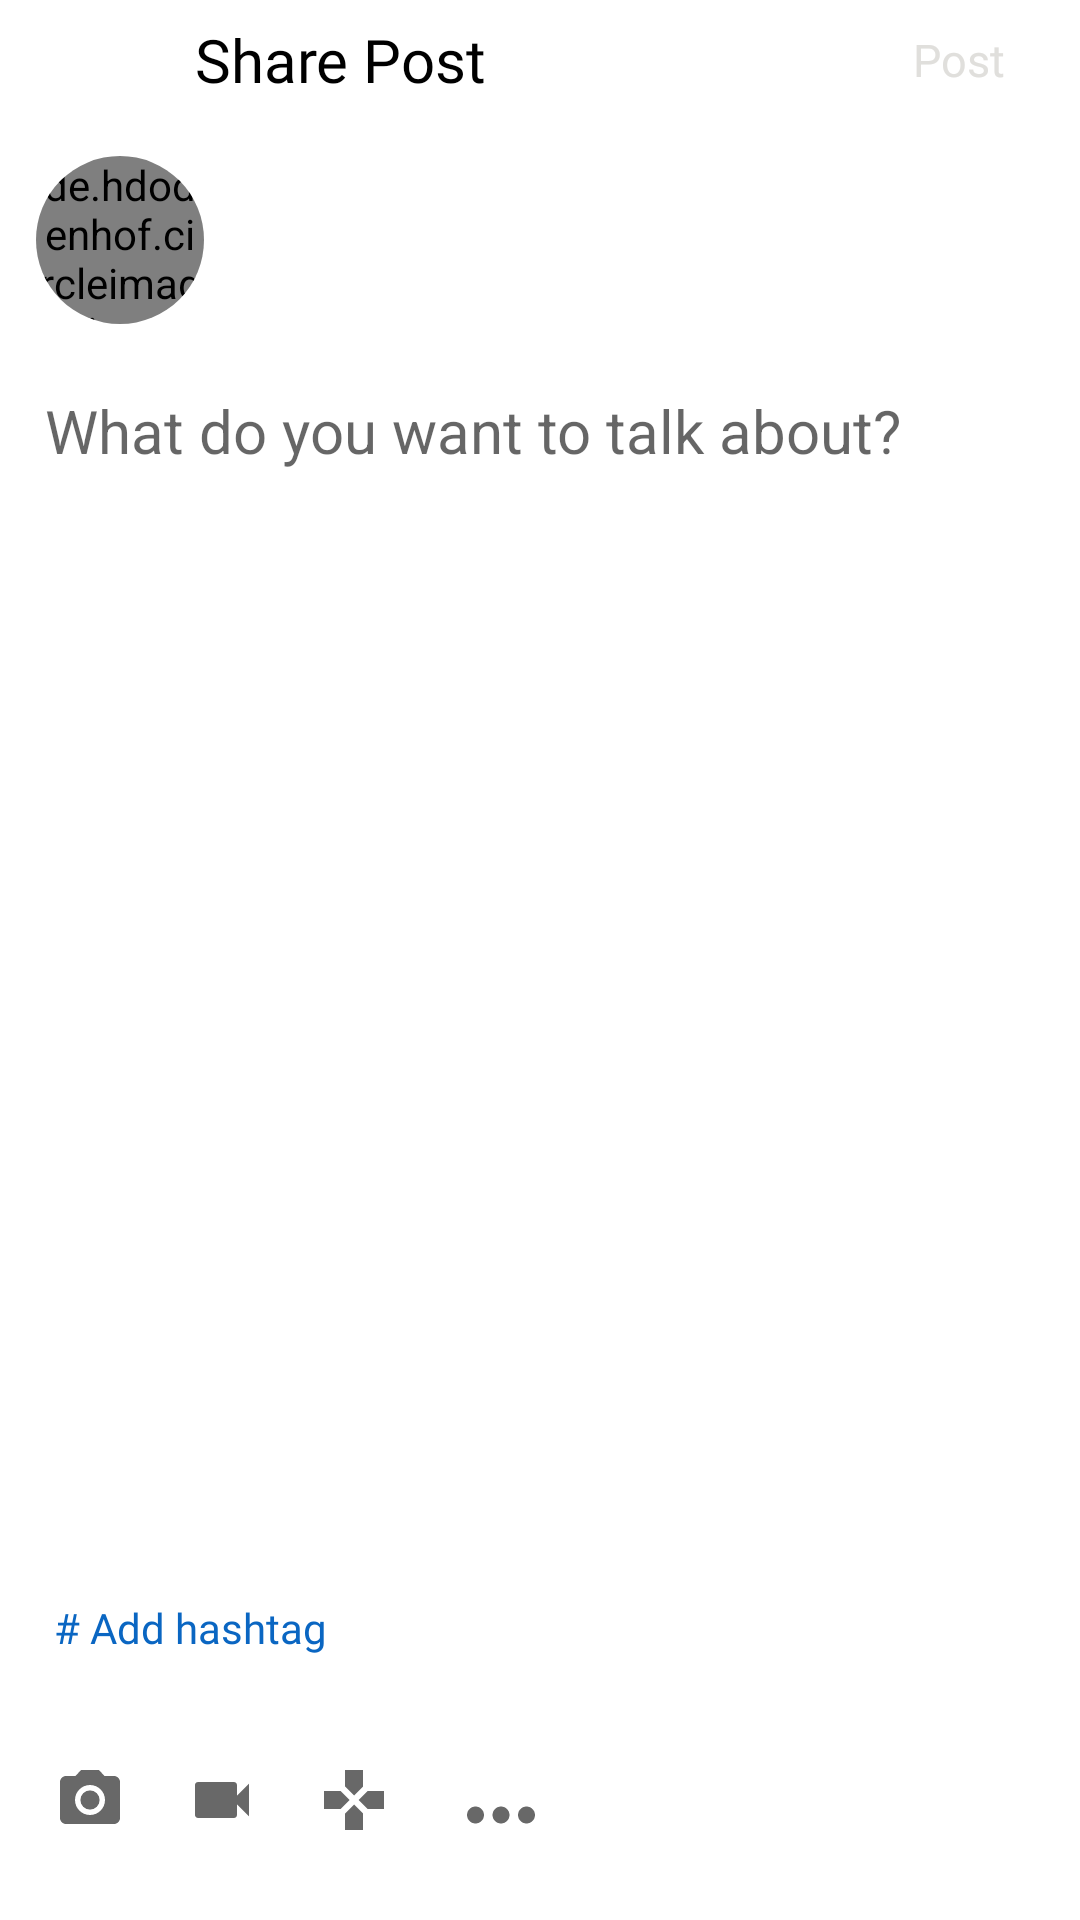

Icons on this 1080x1920 Android screen, each with the point to tap as (x=x, y=y):
camera: (x=90, y=1797)
more horiz: (x=501, y=1815)
videocam: (x=222, y=1800)
